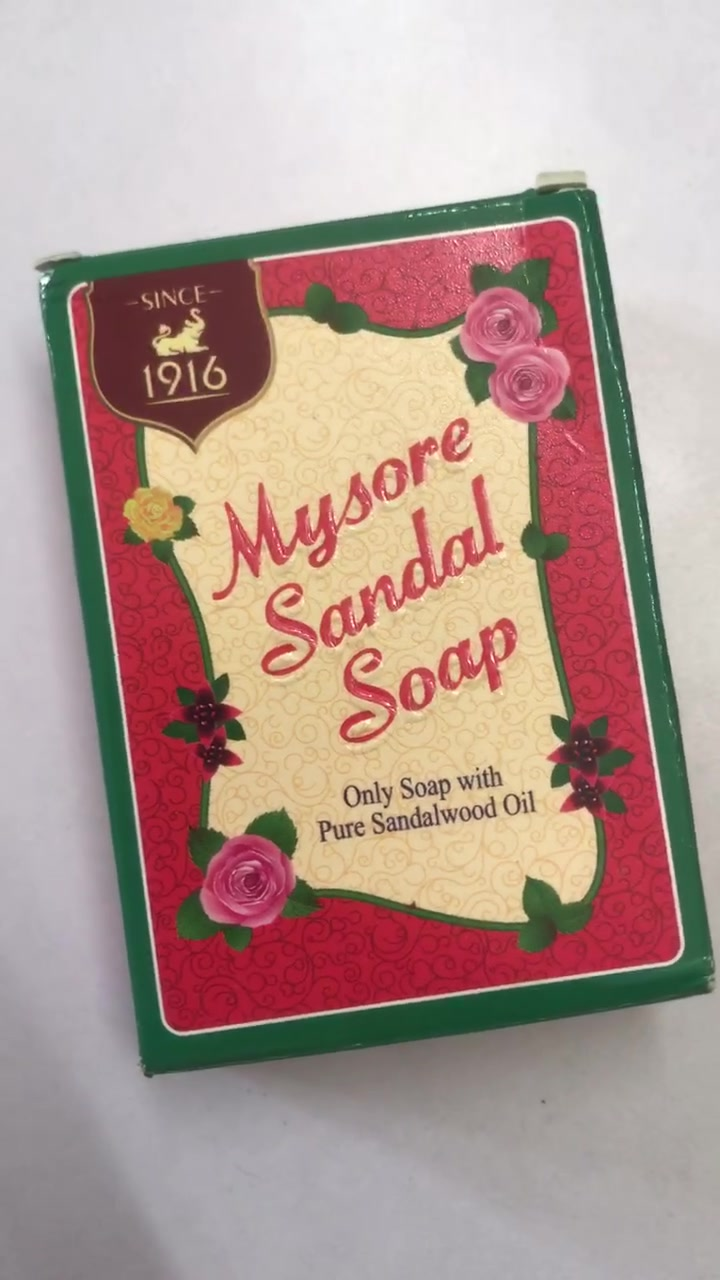mysore sandal soap: (63, 203, 720, 1066)
